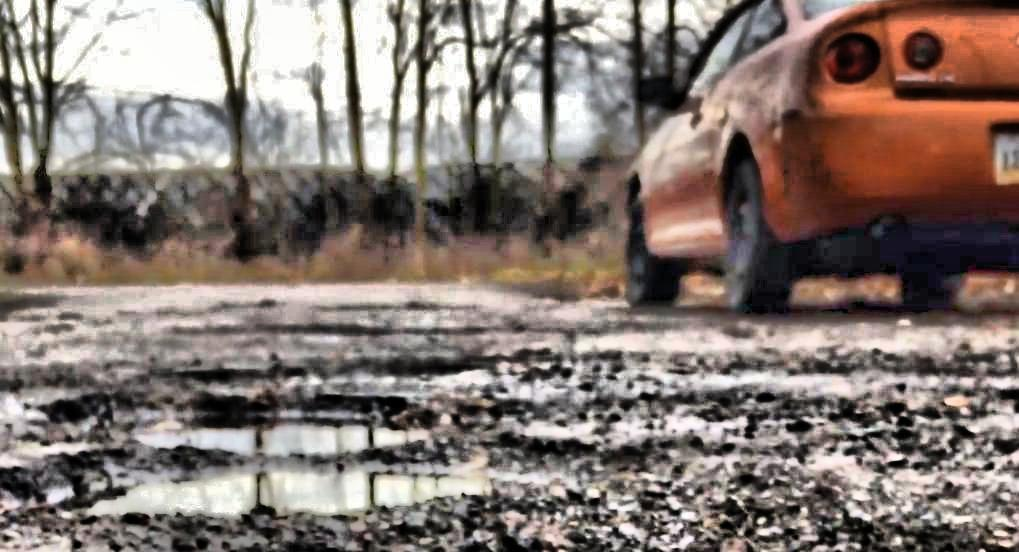pothole: (84, 472, 522, 522), (137, 412, 437, 461)
